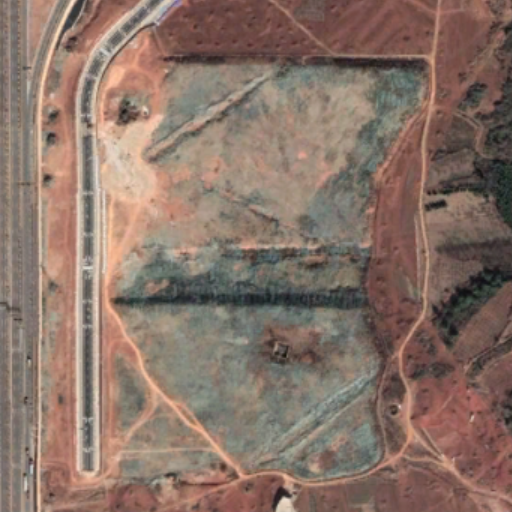cw: (108, 59, 427, 483)
